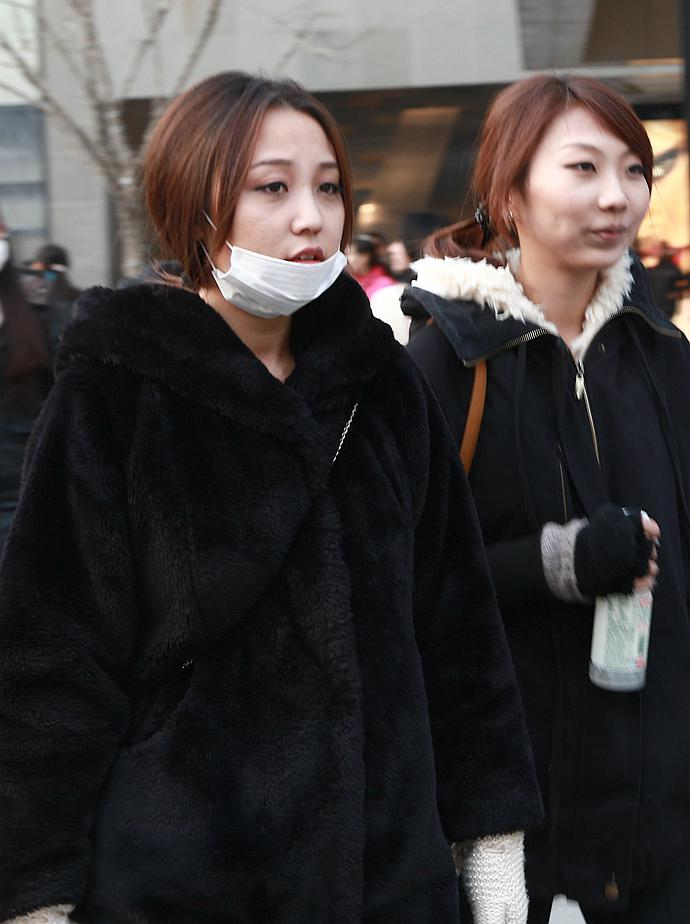NONE: (514, 121, 651, 267)
WRONG: (200, 160, 353, 313)
